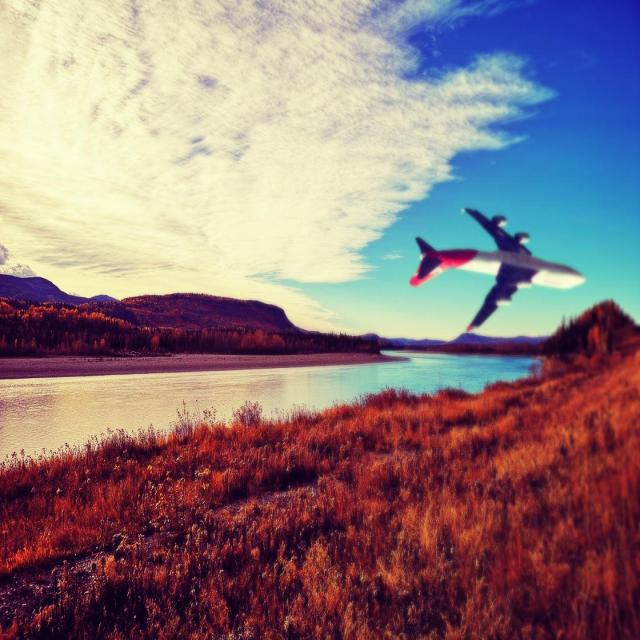airplane: (409, 206, 585, 332)
